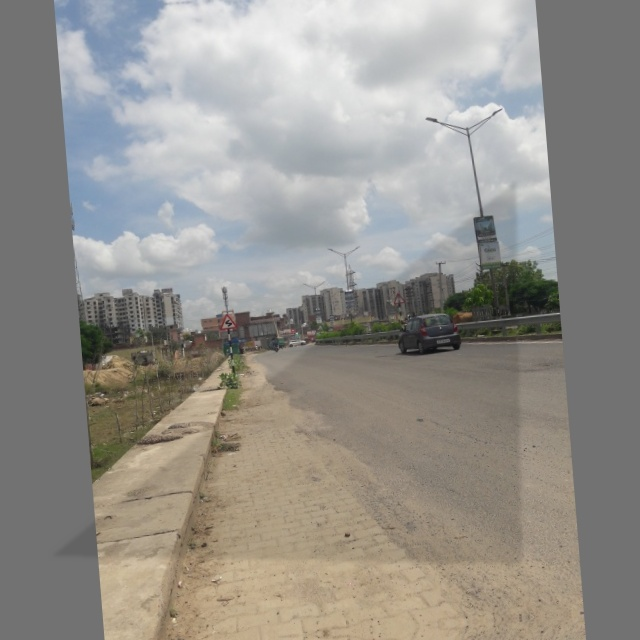Left_Reverse_Bend: (214, 309, 243, 336)
